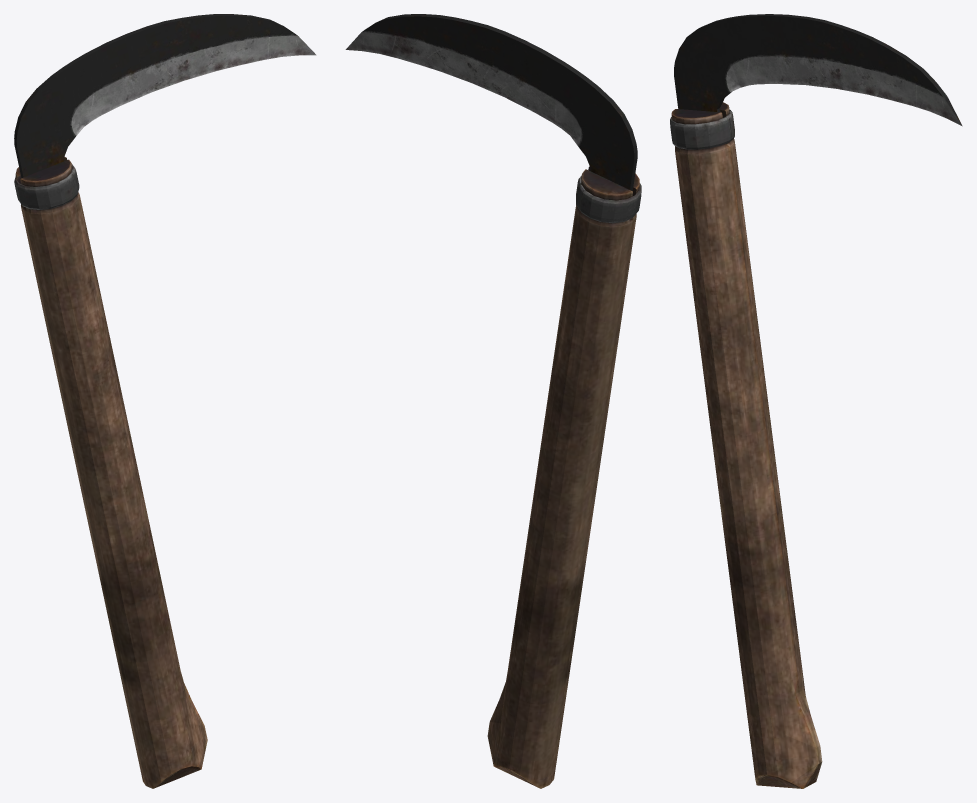
The model's file is sickle.glb.
3 renders of one model, left to right at view 1: azimuth 30°, elevation 25°; view 2: azimuth 150°, elevation 25°; view 3: azimuth 330°, elevation 25°, orthographic. The views are drawn at different scales.
Visible parts, largest first — view 1: gun_dildo2; view 2: gun_dildo2; view 3: gun_dildo2.
Boxes of the visible parts, left/top/right/bottom form: gun_dildo2: left=14, top=14, right=316, bottom=788; gun_dildo2: left=345, top=14, right=641, bottom=788; gun_dildo2: left=670, top=14, right=962, bottom=788.
Size of the model in its own units: 0.3571 by 0.8658 by 0.1103.
1 material, 1 textured.
